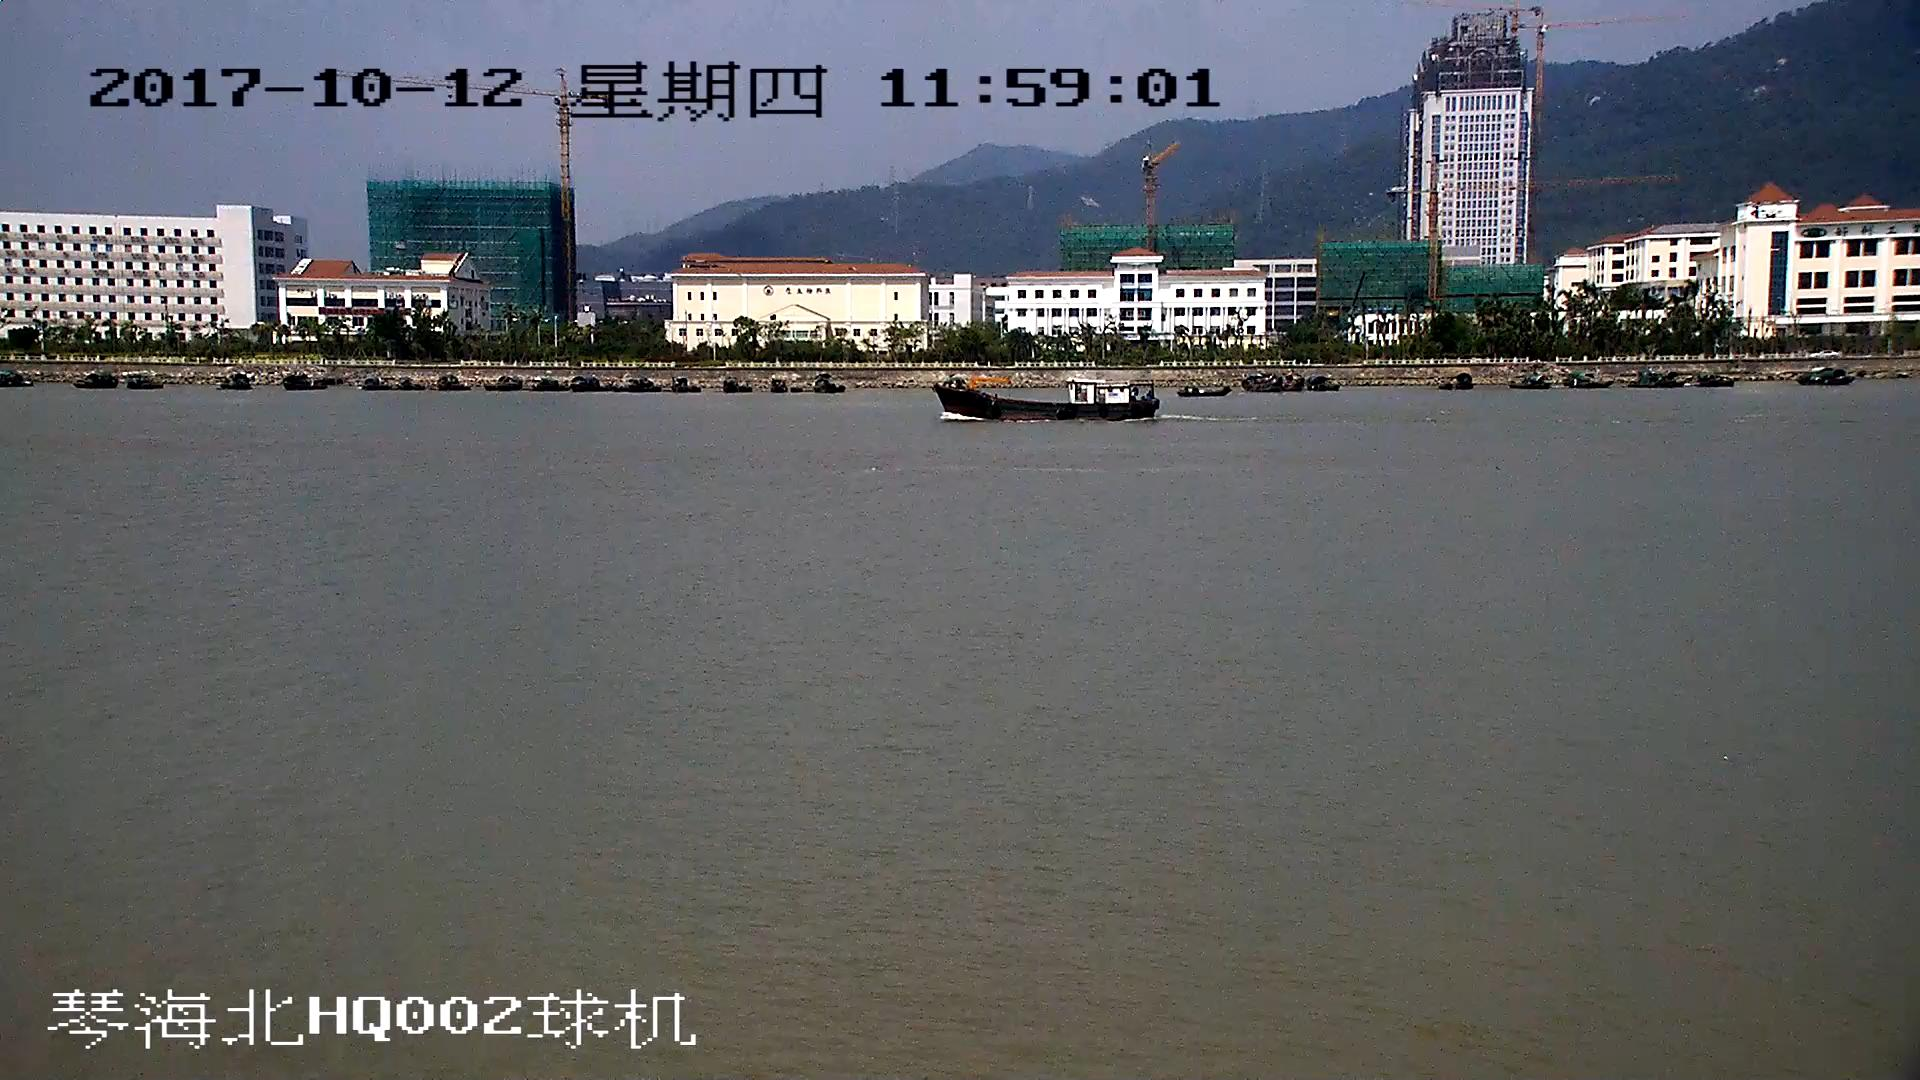fishing boat: (933, 377, 1158, 421)
